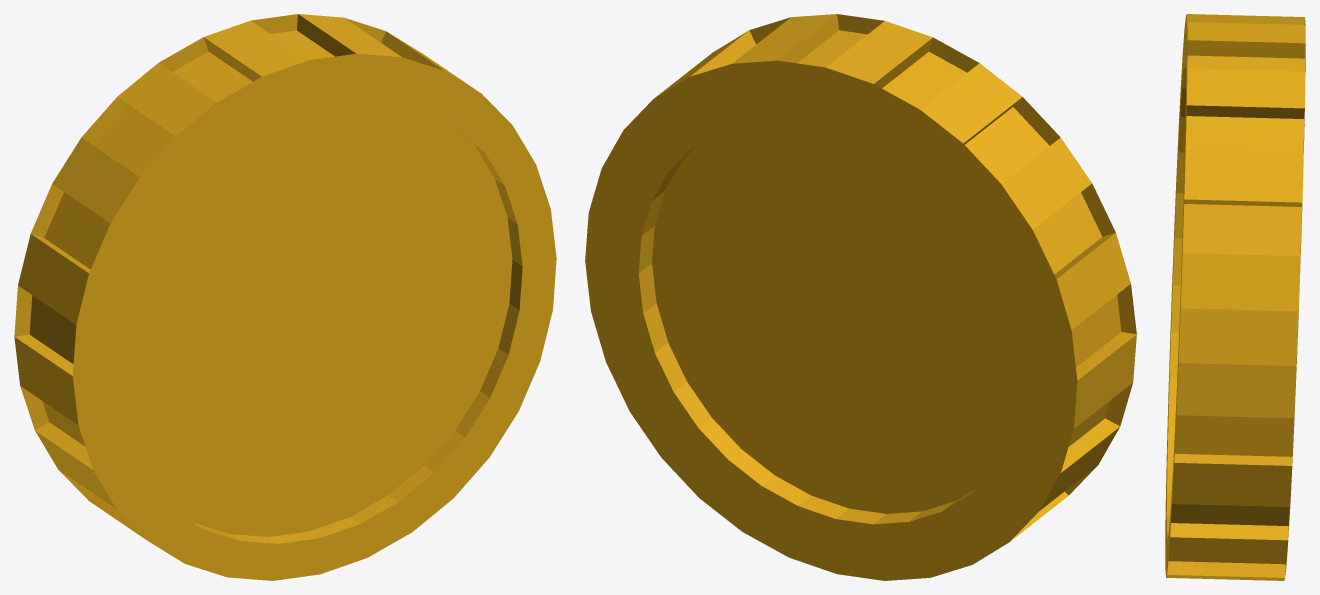
File: coin.fbx
3 views of the same model, side by side, from view 1: azimuth 30°, elevation 25°; view 2: azimuth 150°, elevation 25°; view 3: azimuth 270°, elevation 25° (orthographic).
Parts seen in each view (by area): view 1: Circle; view 2: Circle; view 3: Circle.
Boxes of the visible parts, x1,y1,x2,y2 form: Circle: [14, 14, 556, 580]; Circle: [585, 14, 1136, 580]; Circle: [1165, 14, 1305, 580].
Size of the model in its own units: 239 by 241 by 59.56.
